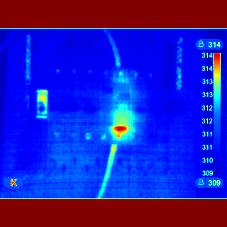Critical: (108, 104, 137, 142)
